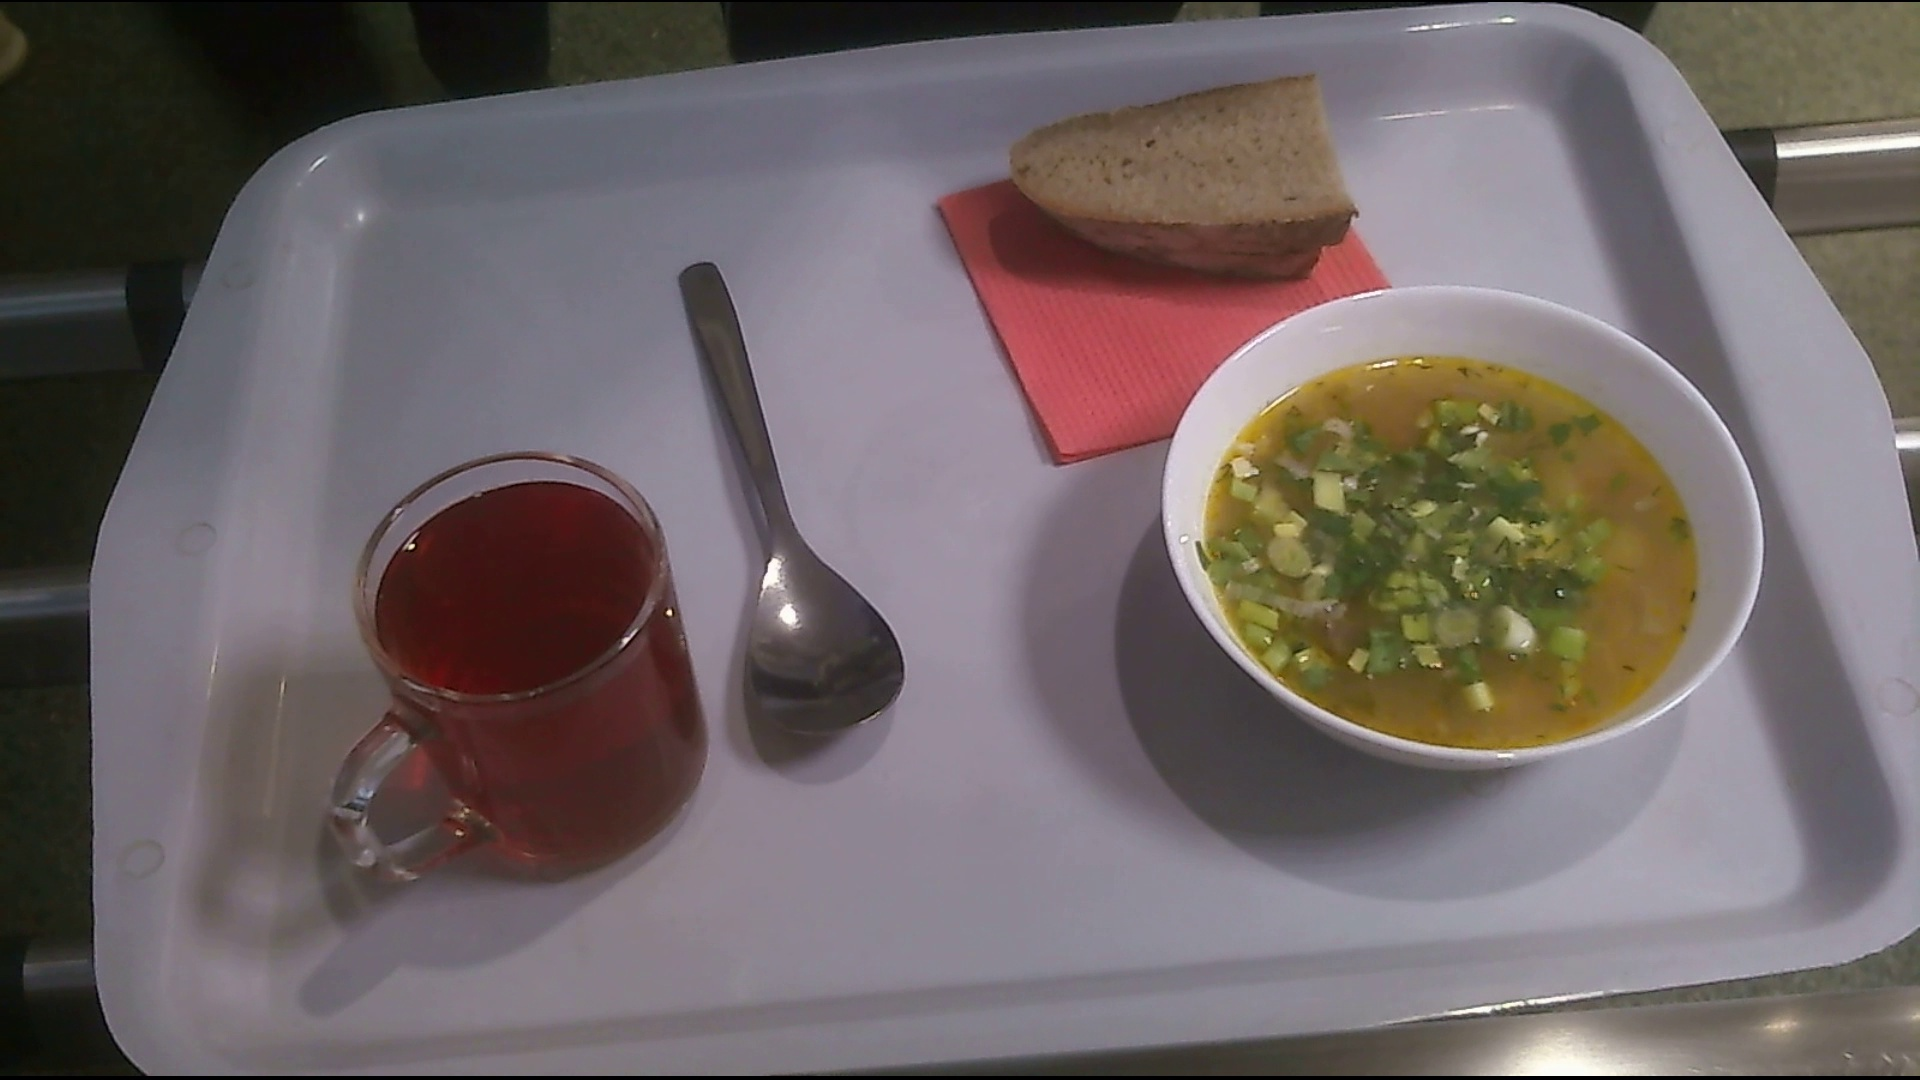bowl: (1153, 286, 1774, 794)
cutlery: (670, 258, 909, 752)
drink: (332, 452, 715, 911)
other: (1002, 80, 1369, 291)
